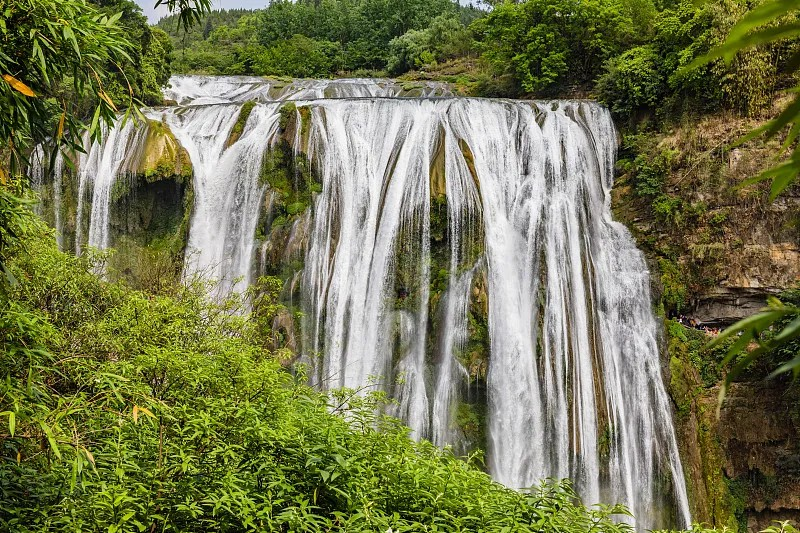Huangguoshu: (164, 76, 693, 531)
